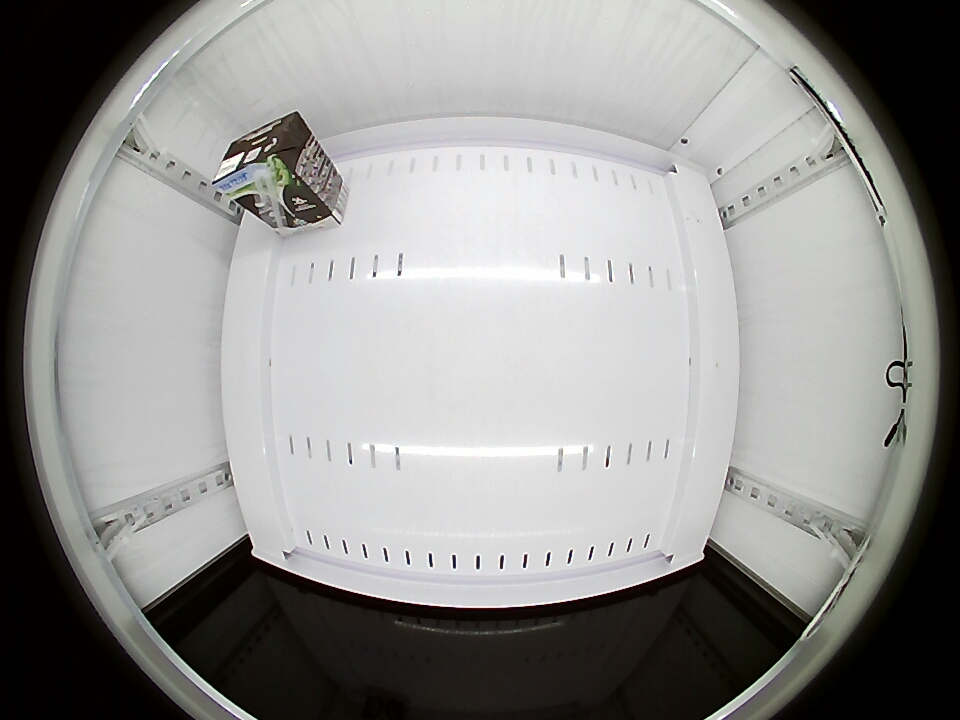weitanai2: (212, 111, 314, 200)
